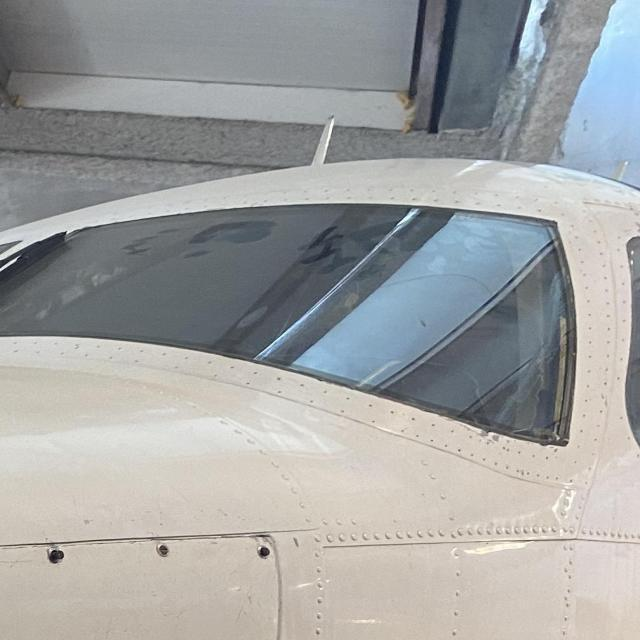Paint-off: (478, 428, 504, 447), (600, 392, 608, 406)
